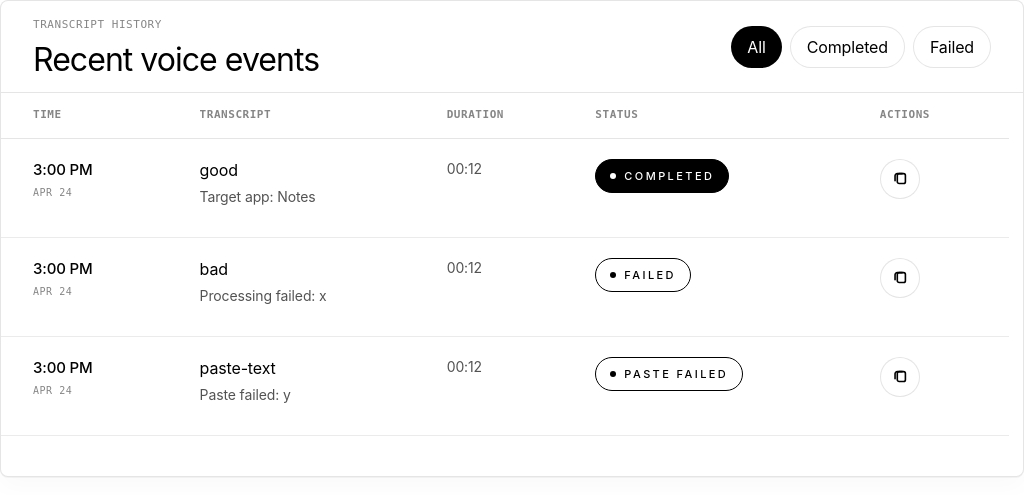
Test case: TranscriptHistory › filters to failed and paste_failed rows when Failed pill is active
Step 1. Click the button "Failed" → click(952, 47), box [913,26,991,68]
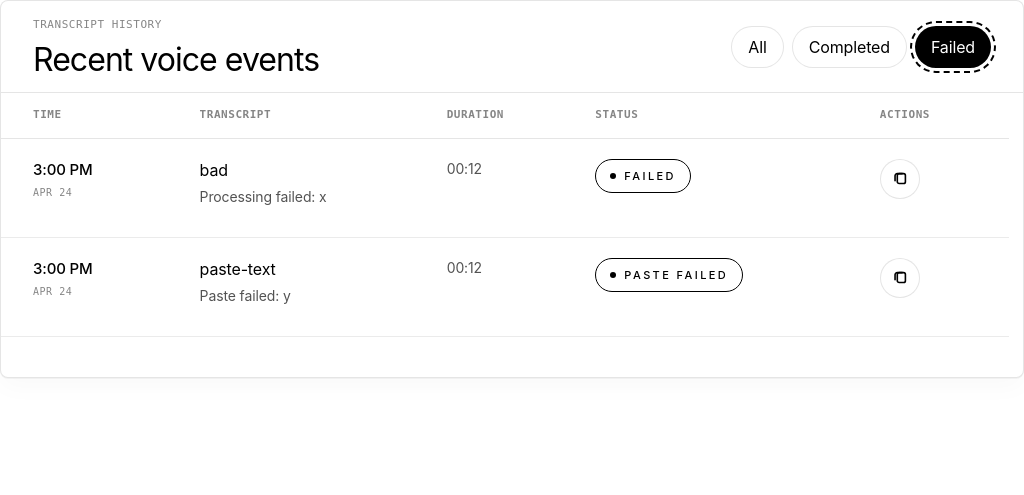
Check: the text "bad" is shown, box [200,160,228,180]
Check: the text "good" is gone
